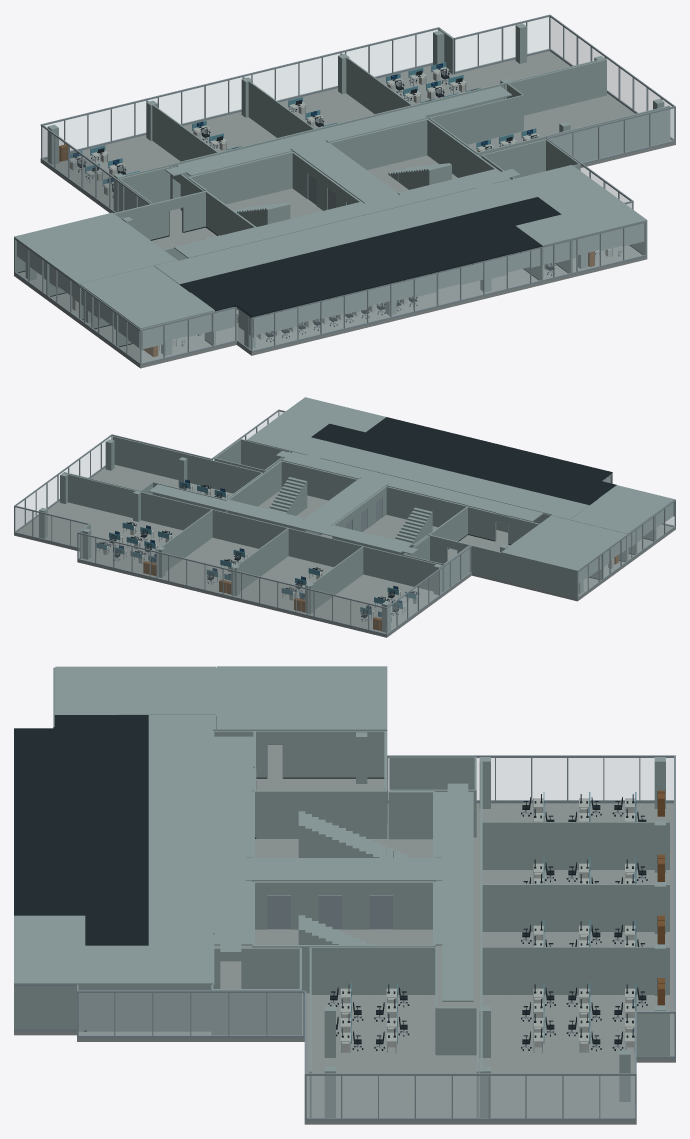
Rendered from f12-interior-lod0.glb.
The picture shows the model from 3 angles, top to bottom: view 1: azimuth 30°, elevation 25°; view 2: azimuth 150°, elevation 25°; view 3: azimuth 270°, elevation 25°; orthographic projection. The views are drawn at different scales.
Visible parts, largest first — view 1: V6_F12_WALL, V6_F12_CEILING, V6_F12_FLOOR, V6_F12_FURNITURE; view 2: V6_F12_WALL, V6_F12_CEILING, V6_F12_FLOOR, V6_F12_FURNITURE; view 3: V6_F12_WALL, V6_F12_CEILING, V6_F12_FLOOR, V6_F12_FURNITURE.
Part boxes in pixels (x1,y1,x2,y2): V6_F12_WALL: (14, 14, 675, 363); V6_F12_CEILING: (14, 86, 647, 329); V6_F12_FLOOR: (14, 51, 675, 368); V6_F12_FURNITURE: (14, 49, 675, 365); V6_F12_WALL: (14, 409, 675, 634); V6_F12_CEILING: (149, 397, 674, 571); V6_F12_FLOOR: (14, 465, 675, 637); V6_F12_FURNITURE: (14, 465, 675, 635); V6_F12_WALL: (14, 667, 675, 1118); V6_F12_CEILING: (14, 666, 473, 1001); V6_F12_FLOOR: (14, 745, 675, 1124); V6_F12_FURNITURE: (14, 777, 675, 1120).
Size of the model in its own units: 55.47 by 3.31 by 38.19.
Materials: 12 (3 with a texture image).
